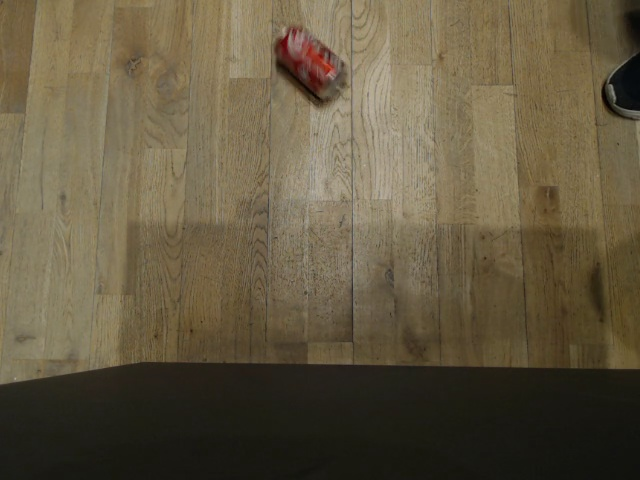cola: (271, 21, 361, 102)
